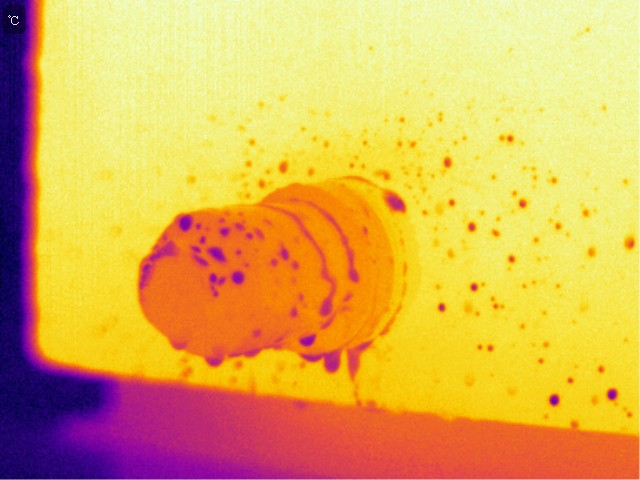Water: (316, 205, 367, 287), (297, 221, 341, 297), (344, 345, 367, 382), (276, 242, 301, 273), (378, 189, 407, 214), (323, 350, 345, 374), (543, 388, 567, 408), (202, 351, 226, 370), (294, 331, 322, 346), (176, 211, 193, 234), (239, 344, 262, 361), (316, 298, 336, 317), (208, 245, 229, 262), (171, 336, 190, 354), (299, 351, 325, 364), (435, 298, 450, 319), (254, 178, 272, 193), (189, 240, 204, 256), (603, 386, 619, 401), (289, 305, 305, 318), (216, 225, 233, 237), (621, 235, 636, 248), (231, 269, 243, 285), (466, 281, 479, 295), (194, 258, 210, 269), (255, 226, 267, 240), (275, 160, 289, 172), (505, 130, 517, 144), (232, 222, 245, 234), (466, 219, 478, 232), (440, 156, 454, 167), (198, 234, 210, 246), (220, 271, 229, 286), (519, 197, 529, 209), (245, 230, 255, 240), (210, 272, 219, 283)
